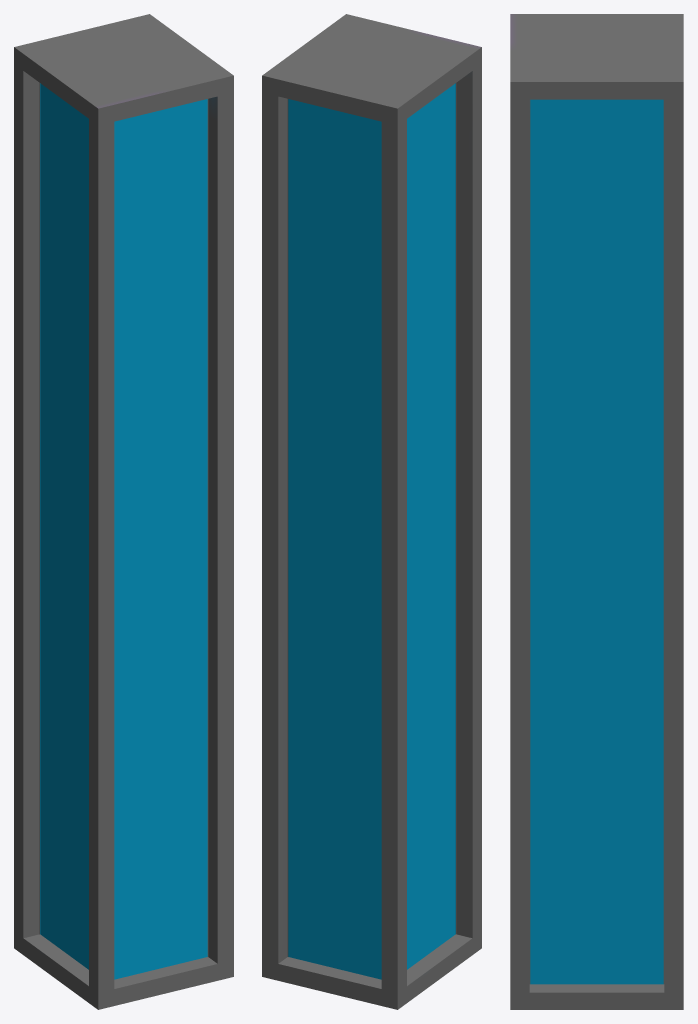
3 views of the same model, side by side, from view 1: azimuth 30°, elevation 25°; view 2: azimuth 150°, elevation 25°; view 3: azimuth 270°, elevation 25° (orthographic). The views are drawn at different scales.
Parts seen in each view (by area): view 1: SM_B_Part1; view 2: SM_B_Part1; view 3: SM_B_Part1.
Part boxes in pixels (box(x1,y1,x2,y2)): SM_B_Part1: box(14, 14, 233, 1009); SM_B_Part1: box(262, 14, 481, 1009); SM_B_Part1: box(510, 14, 683, 1009).
Bounding box in the file's own units: 65.95 × 70.85 × 419.
Materials: 1 (1 with a texture image).
